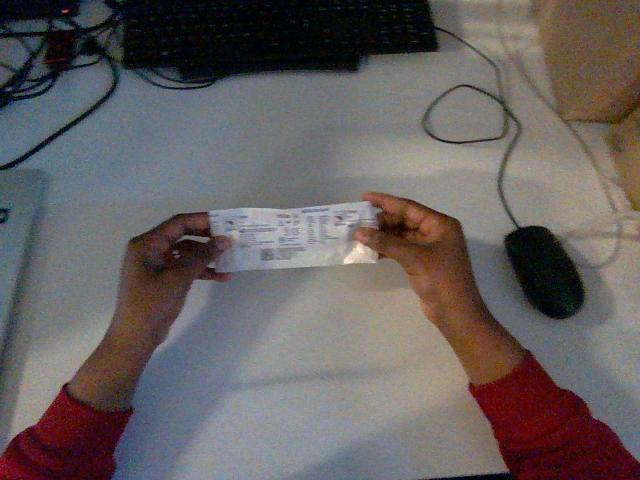syringe: (209, 202, 377, 271)
